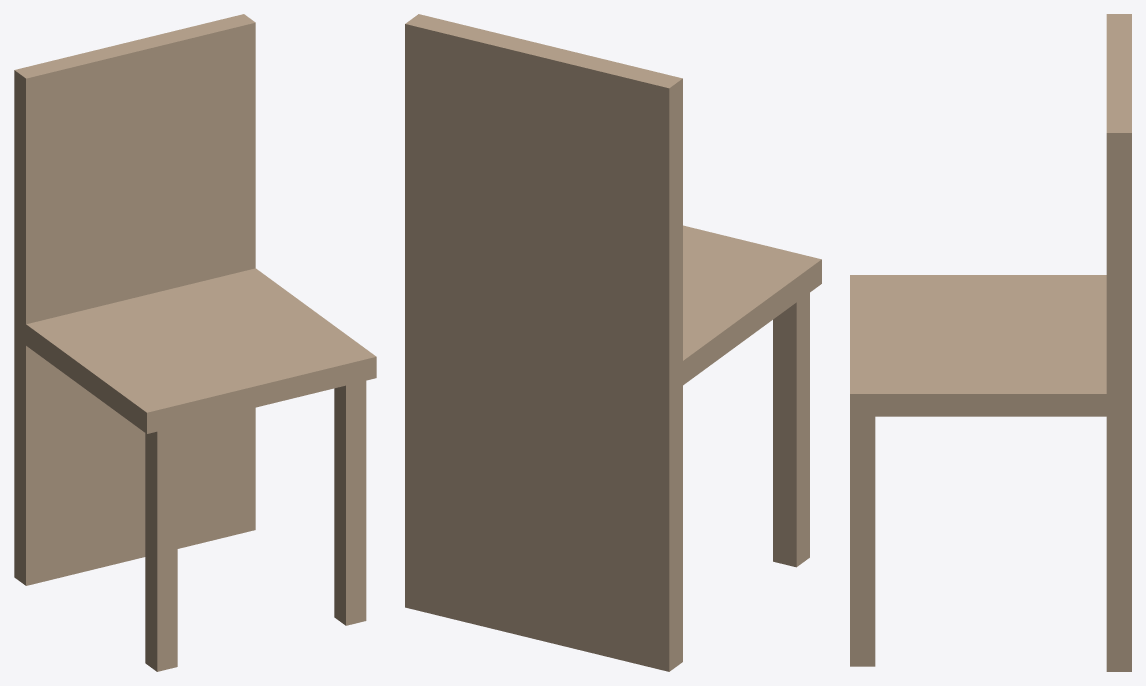
Rendered from chair_dining.glb.
3 views of the same model, side by side, from view 1: azimuth 30°, elevation 25°; view 2: azimuth 150°, elevation 25°; view 3: azimuth 270°, elevation 25° (orthographic). The views are drawn at different scales.
Parts seen in each view (by area): view 1: chair_dining; view 2: chair_dining; view 3: chair_dining.
Boxes of the visible parts, left/top/right/bottom form: chair_dining: left=14, top=14, right=376, bottom=671; chair_dining: left=405, top=14, right=821, bottom=671; chair_dining: left=850, top=14, right=1131, bottom=671.
Size of what is drawn, in the model's own units: 0.45 by 0.95 by 0.45.
